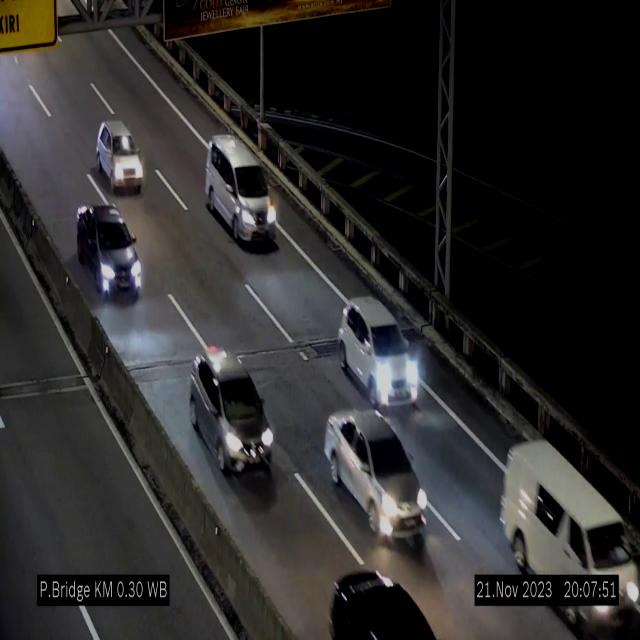Car: (491, 429, 640, 639), (325, 411, 427, 548), (189, 348, 275, 473), (315, 562, 439, 640), (339, 298, 425, 407), (205, 136, 278, 246), (76, 202, 142, 298), (96, 120, 144, 192)
